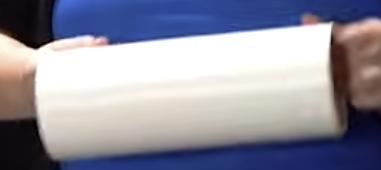coral: (33, 21, 347, 161)
